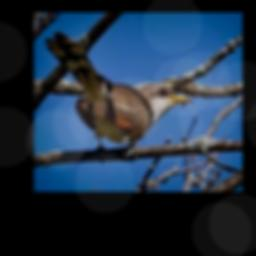Cuckoo: (46, 31, 193, 151)
